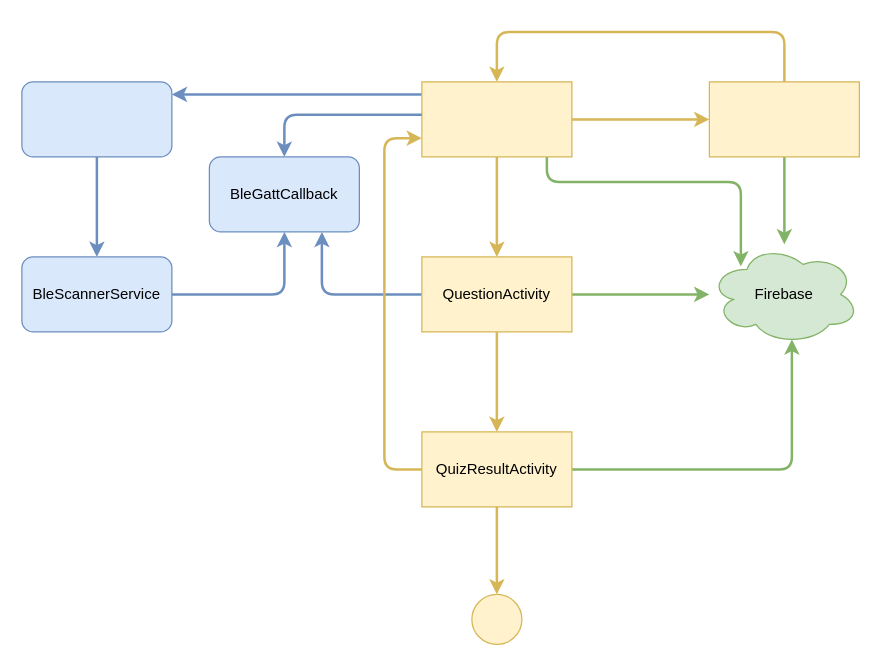
Some shapes in this 881 by 666 pixel diagram are drawn without their labels. Each missing label, with the centre of its shape:
"BleService" goes at pixel 96 119.
"FirebaseLogin" goes at pixel 783 119.
"MainActivity" goes at pixel 496 119.
